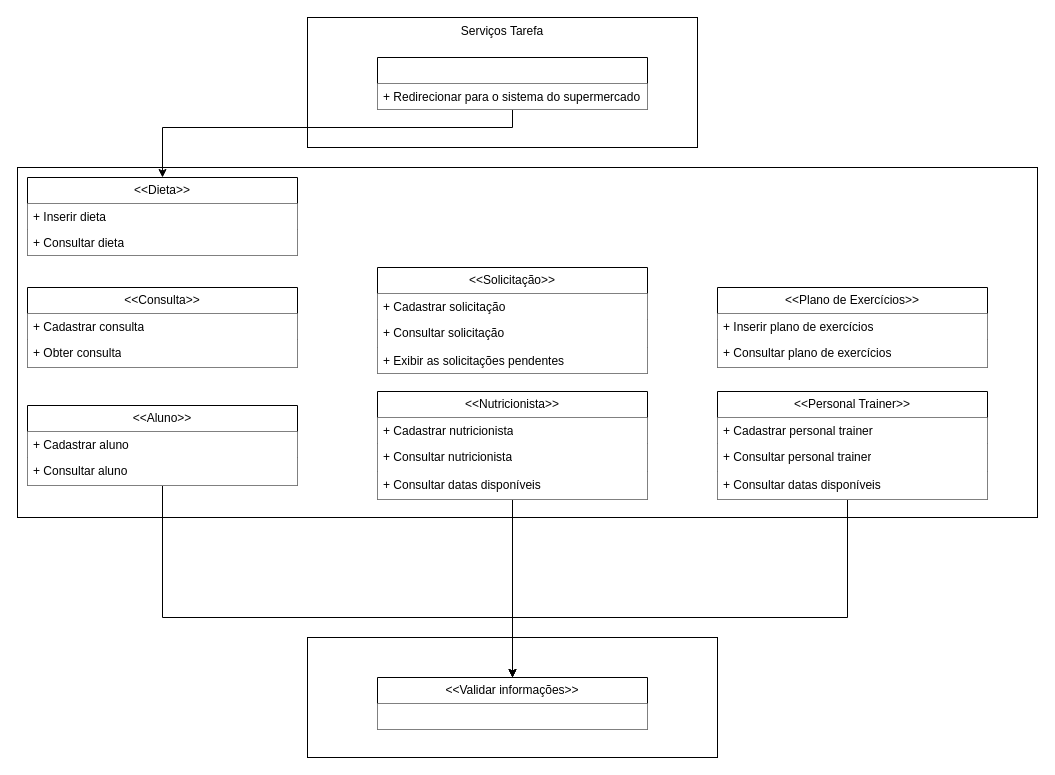
Image size: 1055x775. Some labels were removed from this diagram. The shapes that lost their labels are listed below. From the top down, each one's box as (x1, y1, x2, y2) in pixels, then its label:
(376, 56, 648, 110): <<Gerar compra de produtos>>
(16, 166, 1038, 518): Serviços Entidade
(306, 636, 718, 758): Serviços Utilitário
(377, 703, 647, 729): + Validar as informações
